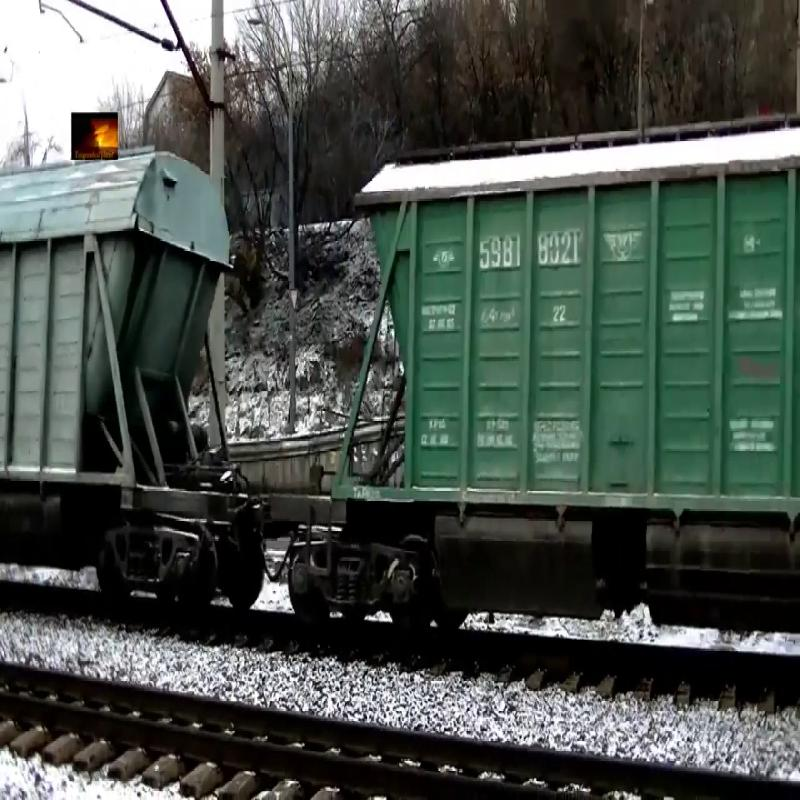train: (316, 106, 800, 615), (2, 146, 233, 530)
